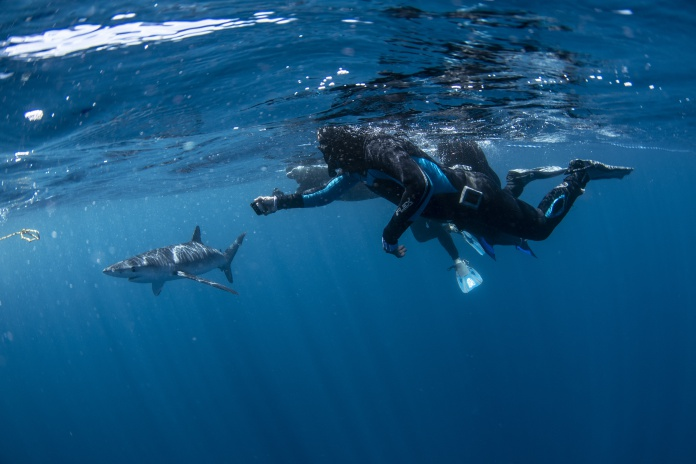Azul: (90, 209, 257, 313)
